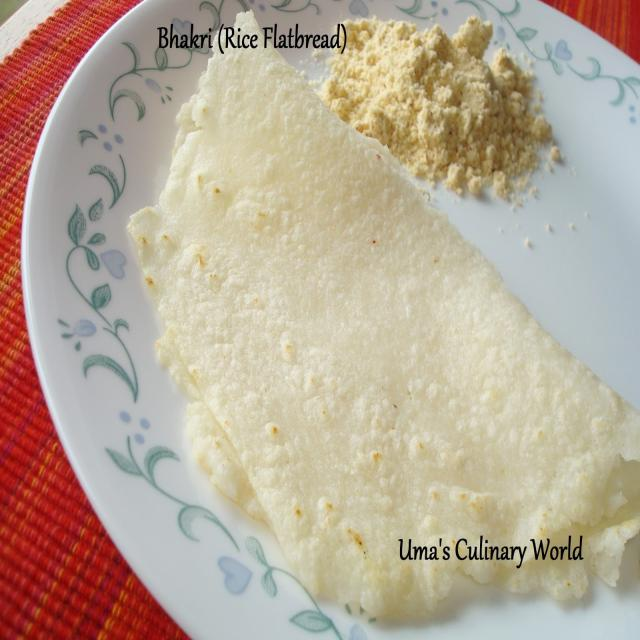DOSA: (132, 45, 636, 615)
